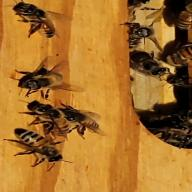Bee: (5, 126, 80, 172), (0, 0, 70, 43), (15, 62, 81, 96), (22, 102, 104, 129), (165, 35, 192, 80), (163, 2, 192, 34)
